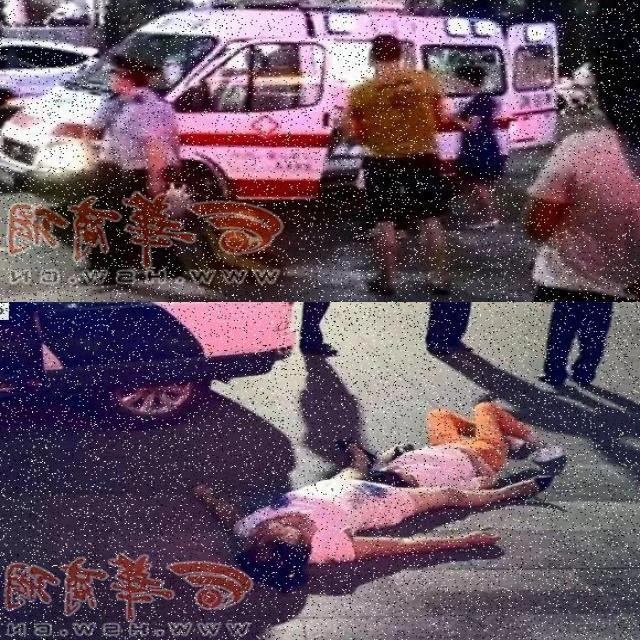fall: (225, 398, 564, 574)
